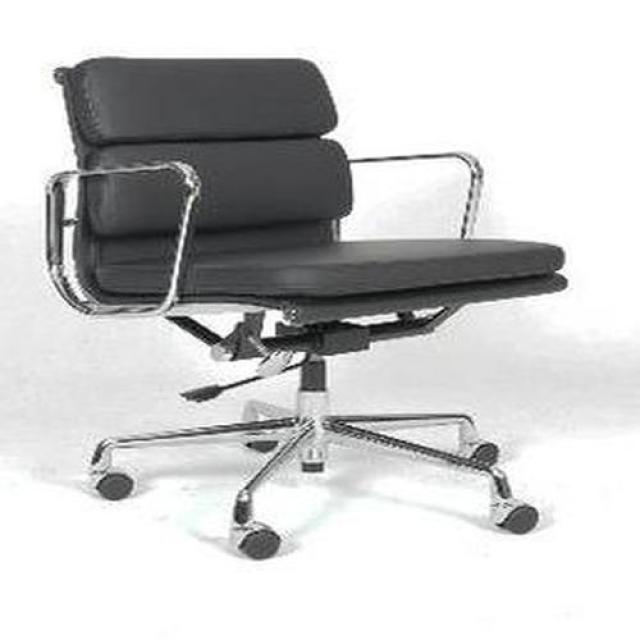swivelchair: (44, 58, 568, 563)
